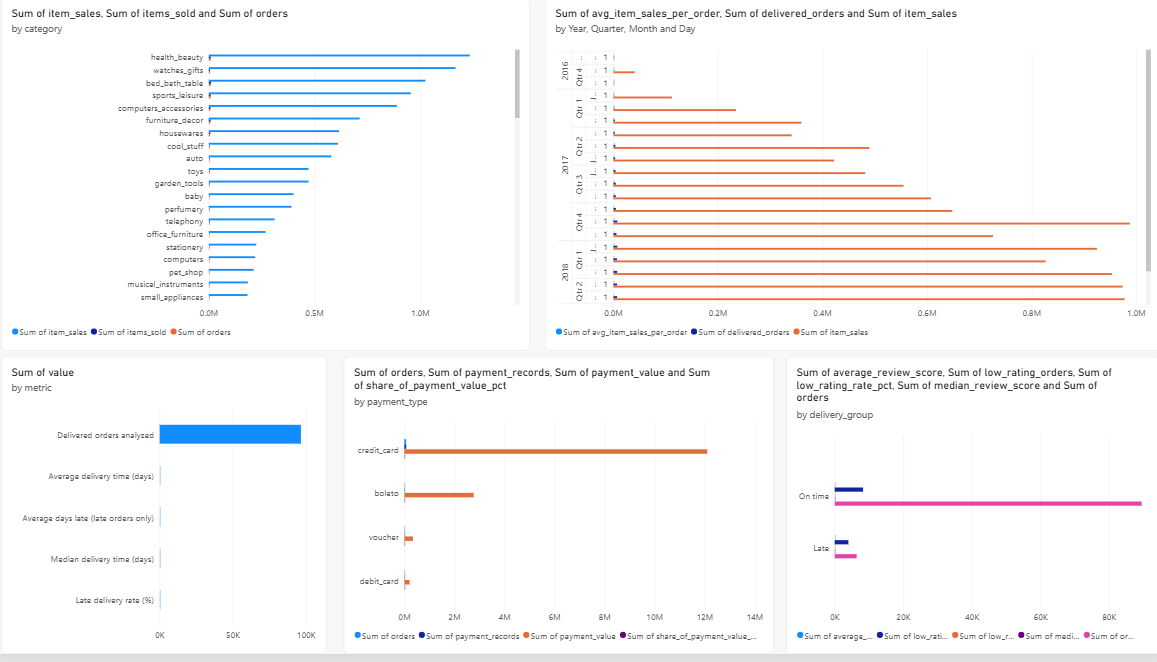

This screenshot's page, from the dashboard's own definition file:
{"tool":"powerbi","page":{"name":"Page 1","canvas":[1920,1080],"ordinal":0},"visuals":[{"type":"clusteredBarChart","fields":{"Category":["category_sales.category"],"Y":["Sum(category_sales.item_sales)","Sum(category_sales.items_sold)","Sum(category_sales.orders)"]},"box":[10.3,0,870.7,580.4],"z":0},{"type":"clusteredBarChart","fields":{"Category":["delivery_kpis.metric"],"Y":["Sum(delivery_kpis.value)"]},"box":[10.3,590.7,535.2,489.9],"z":1},{"type":"clusteredBarChart","fields":{"Category":["monthly_sales.month.Variation.Date Hierarchy.Year","monthly_sales.month.Variation.Date Hierarchy.Quarter","monthly_sales.month.Variation.Date Hierarchy.Month","monthly_sales.month.Variation.Date Hierarchy.Day"],"Y":["Sum(monthly_sales.avg_item_sales_per_order)","Sum(monthly_sales.delivered_orders)","Sum(monthly_sales.item_sales)"]},"box":[905.7,0,1014.8,580.4],"z":2},{"type":"clusteredBarChart","fields":{"Category":["payment_mix.payment_type"],"Y":["Sum(payment_mix.orders)","Sum(payment_mix.payment_records)","Sum(payment_mix.payment_value)","Sum(payment_mix.share_of_payment_value_pct)"]},"box":[574.3,590.7,708.1,489.9],"z":3},{"type":"clusteredBarChart","fields":{"Category":["review_impact.delivery_group"],"Y":["Sum(review_impact.average_review_score)","Sum(review_impact.low_rating_orders)","Sum(review_impact.low_rating_rate_pct)","Sum(review_impact.median_review_score)","Sum(review_impact.orders)"]},"box":[1302.9,590.7,617.5,489.9],"z":4}]}

Visuals, with their boxes in screenshot pixels (x1, y1, x2, y2), scaled from the page's 1920x1080 canvas onto the 1157x662 screenshot:
clusteredBarChart - category_sales.category x Sum(category_sales.item_sales): [6,0,531,356]
clusteredBarChart - delivery_kpis.metric x Sum(delivery_kpis.value): [6,362,329,661]
clusteredBarChart - monthly_sales.month.Variation.Date Hierarchy.Year x monthly_sales.month.Variation.Date Hierarchy.Quarter: [546,0,1156,356]
clusteredBarChart - payment_mix.payment_type x Sum(payment_mix.orders): [346,362,773,661]
clusteredBarChart - review_impact.delivery_group x Sum(review_impact.average_review_score): [785,362,1156,661]
